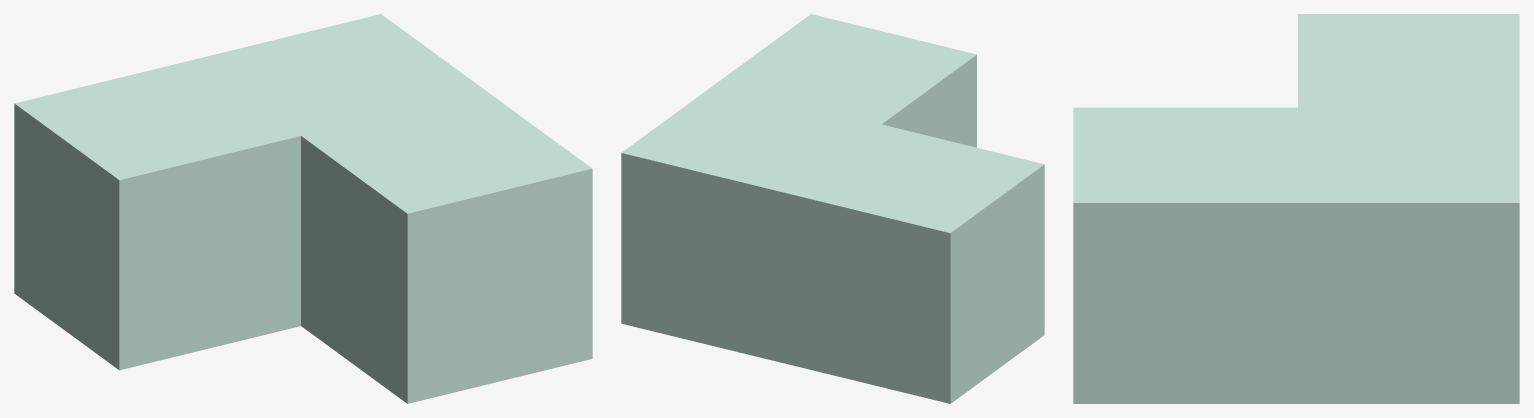
3 views of the same model, side by side, from view 1: azimuth 30°, elevation 25°; view 2: azimuth 150°, elevation 25°; view 3: azimuth 270°, elevation 25° (orthographic). The views are drawn at different scales.
Visible parts, largest first — view 1: Renderer Node; view 2: Renderer Node; view 3: Renderer Node.
Part boxes in pixels (bbox=[...]): Renderer Node: bbox=[14, 14, 592, 403]; Renderer Node: bbox=[621, 14, 1044, 403]; Renderer Node: bbox=[1073, 14, 1519, 403].
Size of the model in its own units: 1.1 by 0.5469 by 1.1.
